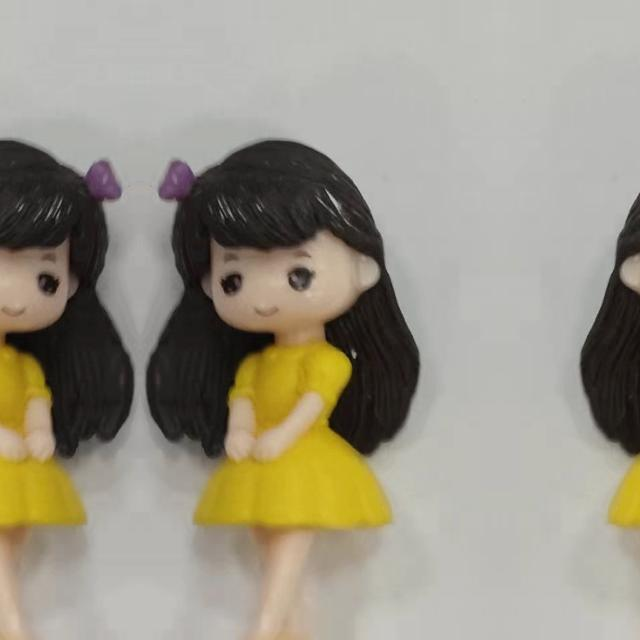woman dress: (199, 336, 401, 640), (0, 336, 81, 639), (599, 336, 640, 639)
woman head: (140, 146, 398, 342), (0, 145, 140, 342), (602, 145, 640, 342)
